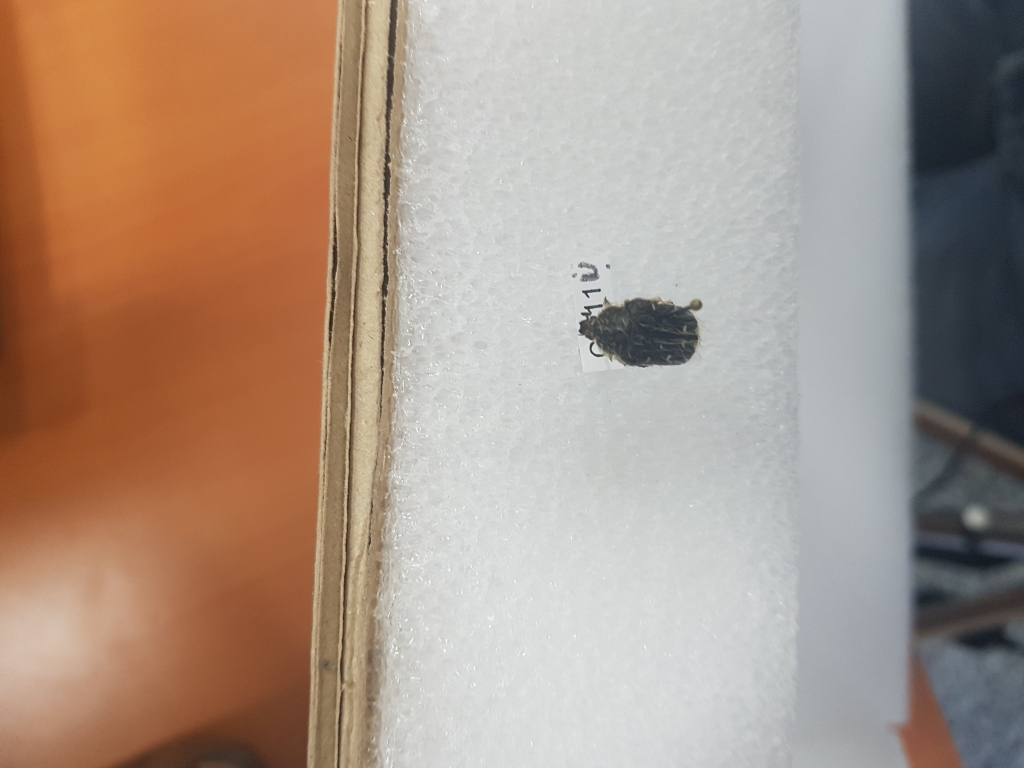Tropinota_senicula: (574, 297, 712, 371)
